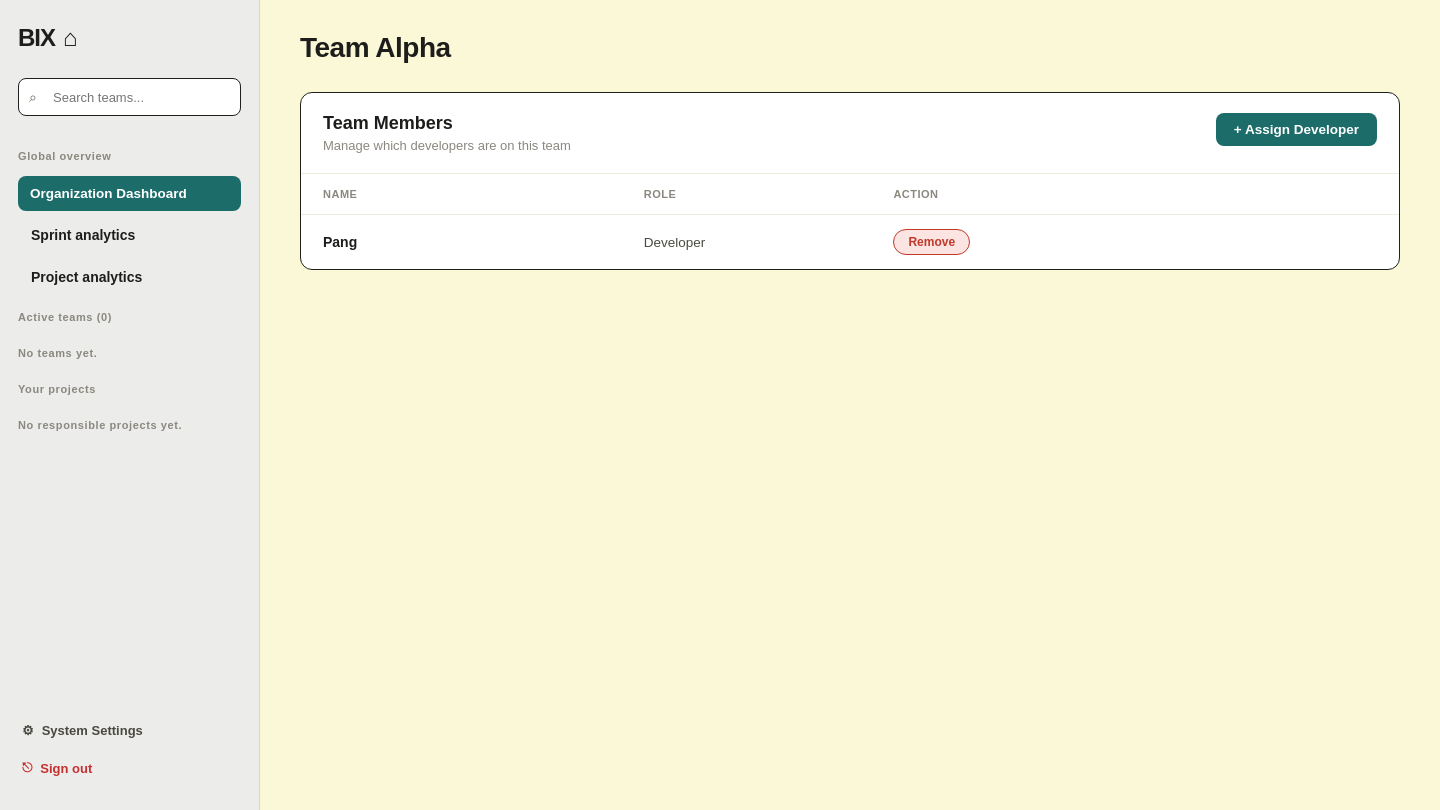
Test: TeamDetail (real data) › removes a member and refreshes the list from the server
Expected: the text "Pang" is shown, 323,234 -> 357,250
Click the button "Remove" at {"x": 932, "y": 242}, box 893,229 -> 970,255
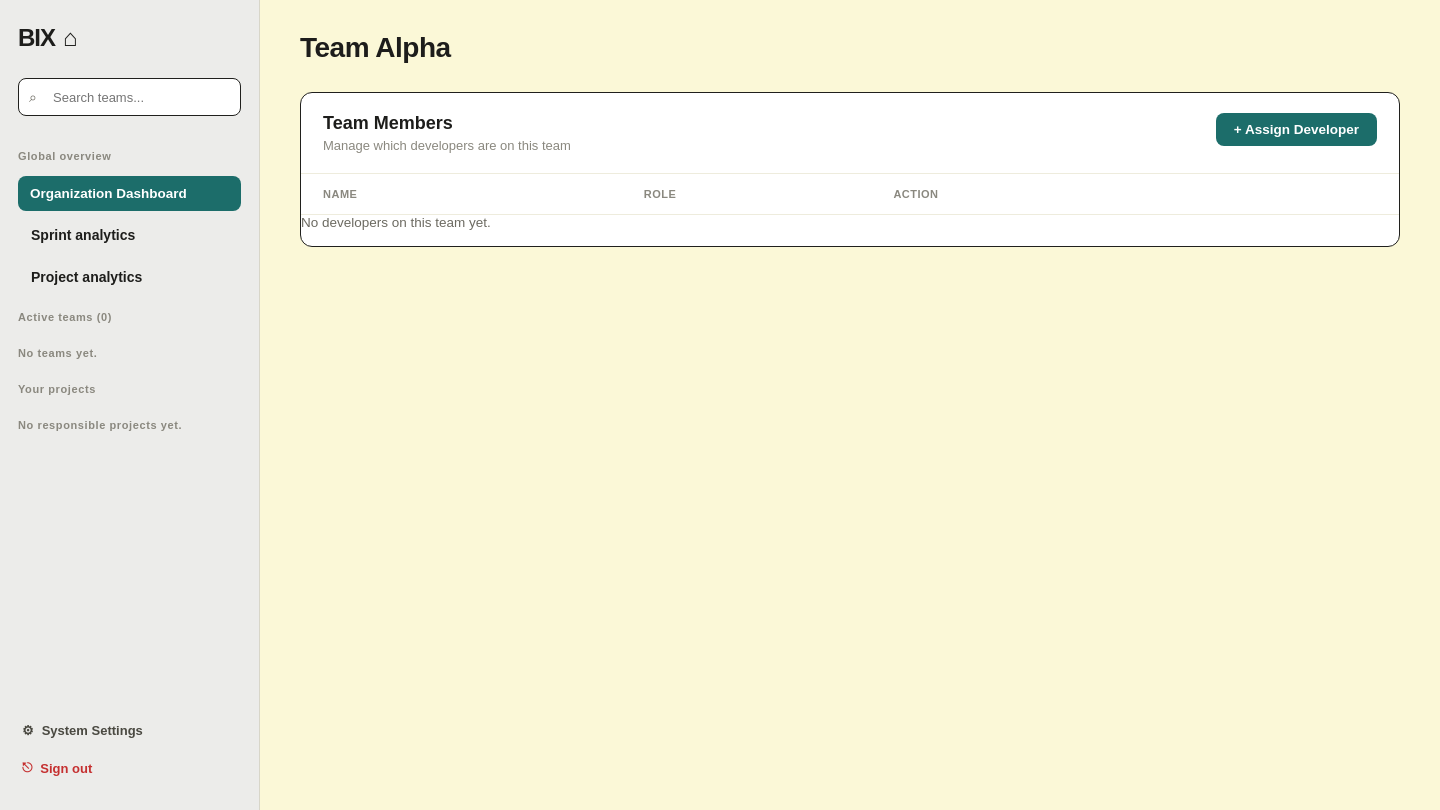
Now the text "No developers on this team yet." is shown, box 301,215 -> 491,230
